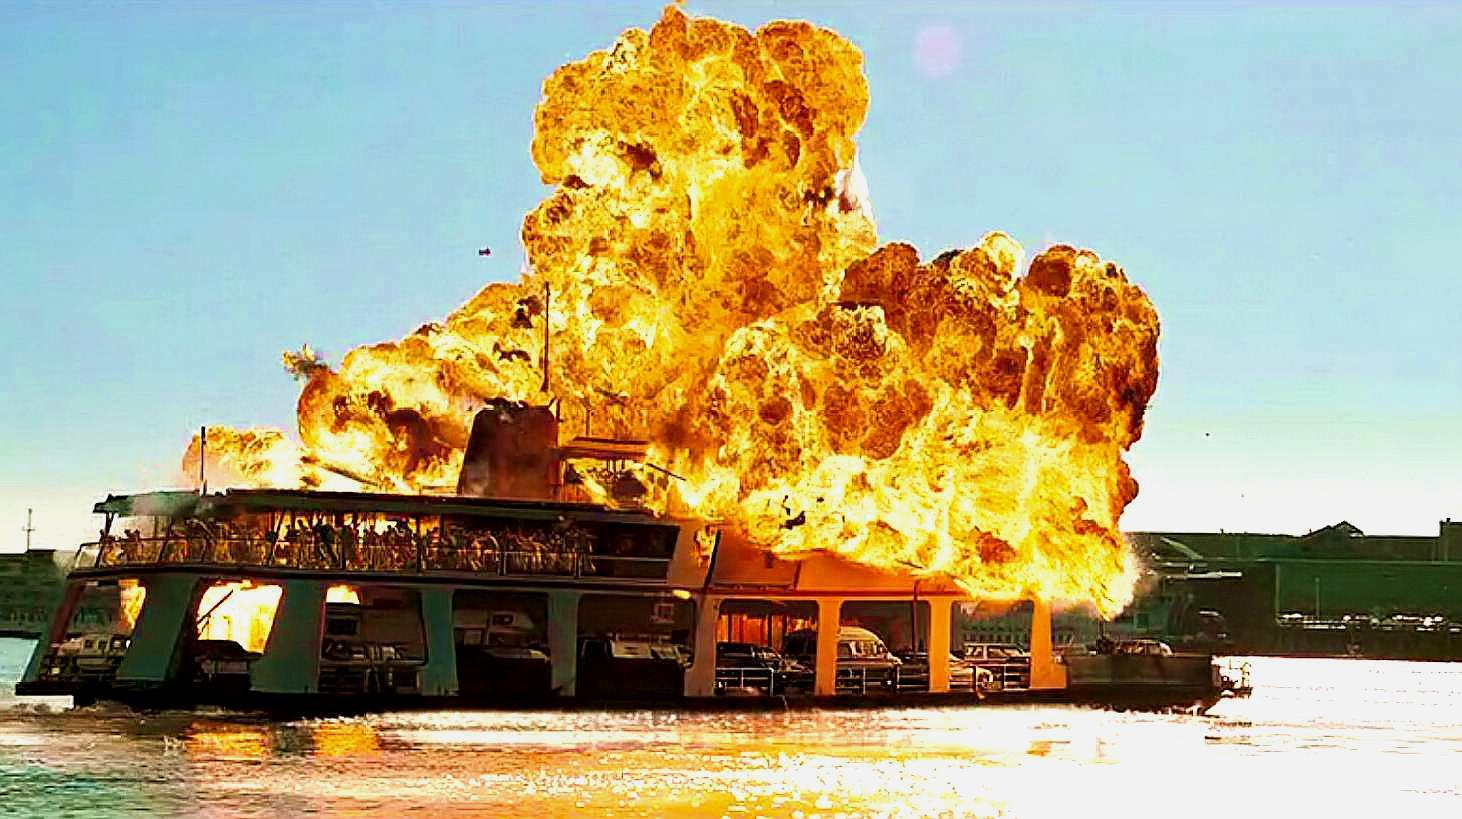fire: (180, 7, 1169, 625)
